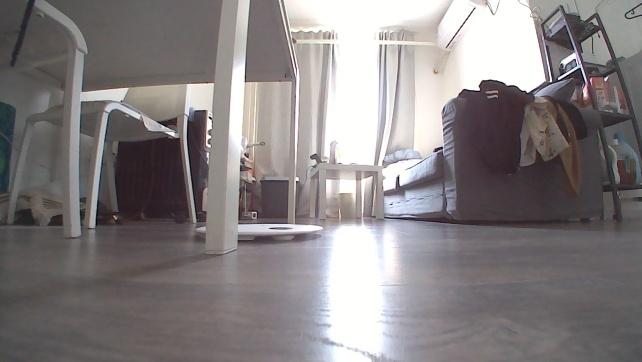dining_table: (0, 0, 306, 257)
sofa: (377, 77, 608, 226)
weight_scale: (190, 219, 324, 243)
